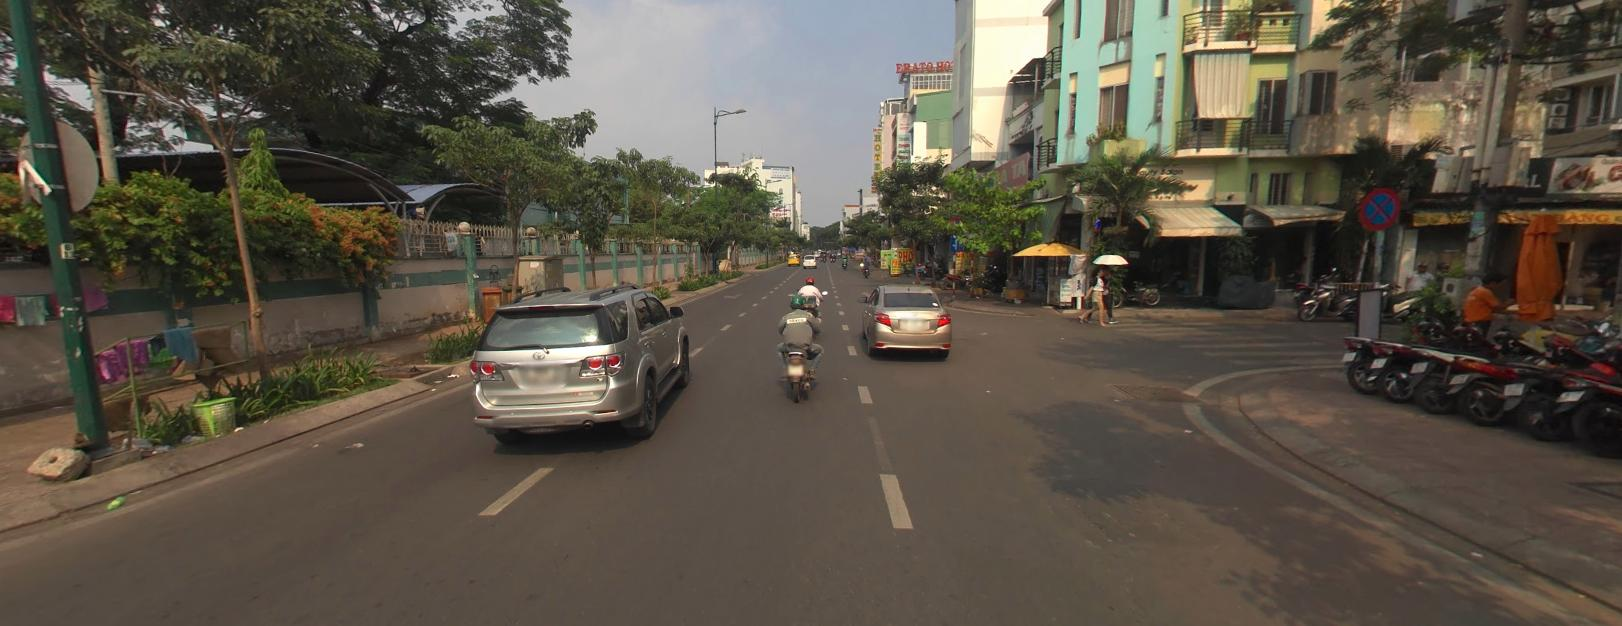Cam dung va do: (1359, 185, 1399, 230), (947, 215, 963, 233)
